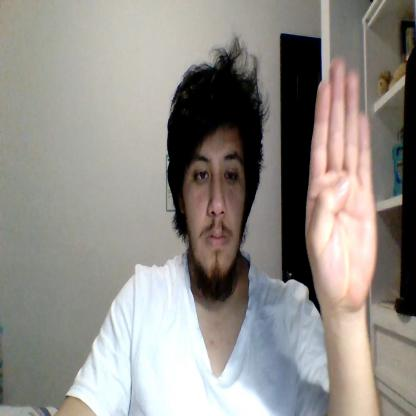B: (306, 55, 377, 312)
